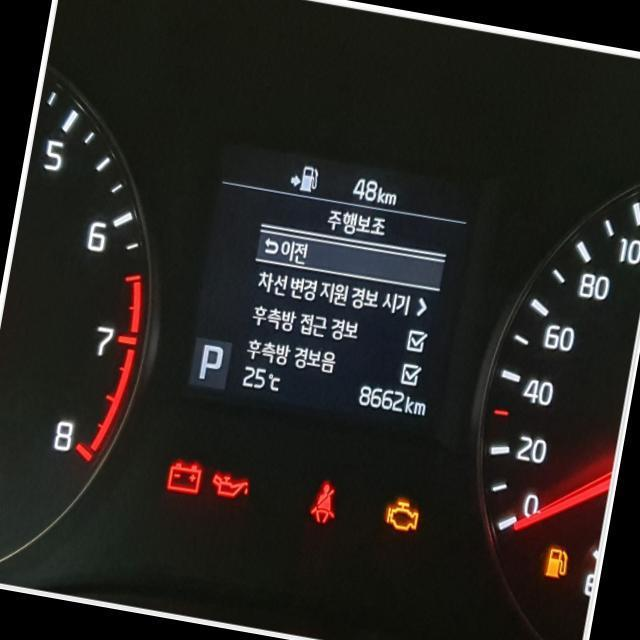Low fuel level: (544, 546, 568, 578)
